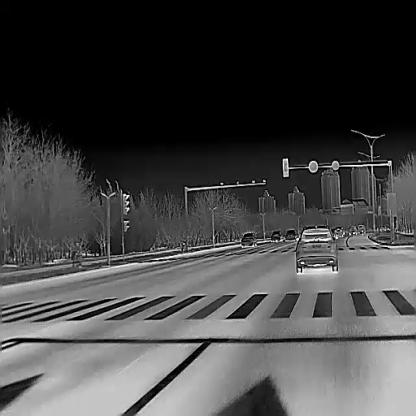car: (295, 224, 337, 272), (240, 232, 256, 247), (270, 230, 281, 241), (347, 224, 358, 235), (285, 229, 295, 240), (334, 226, 344, 236), (357, 224, 365, 234)
